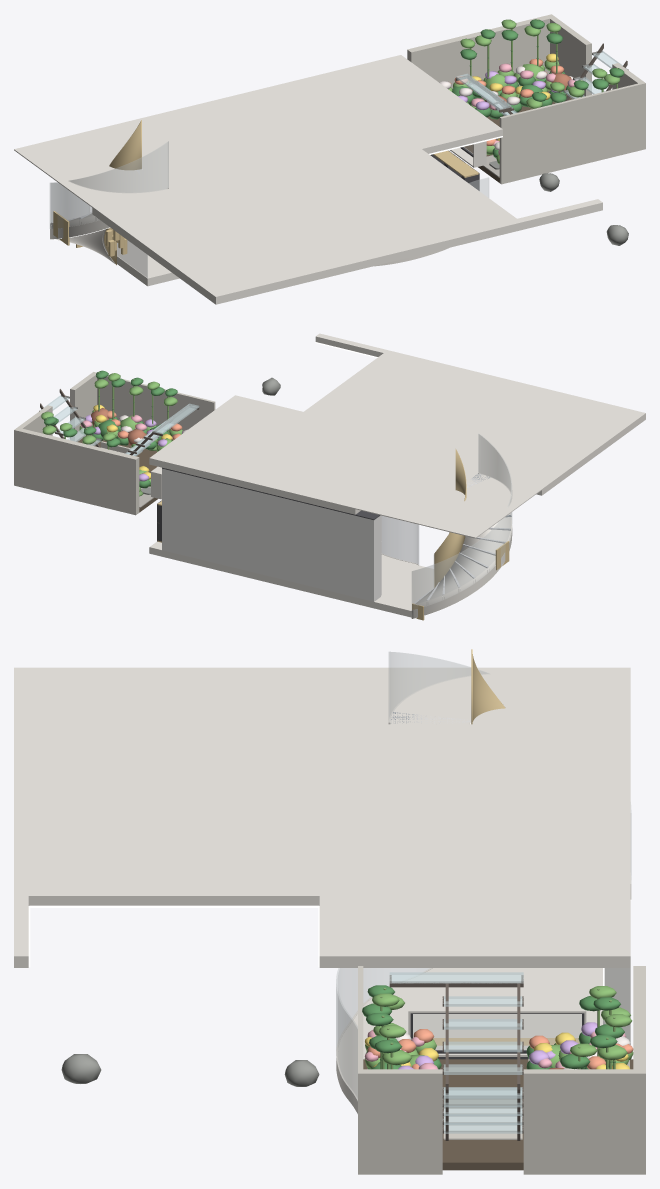
3 views of the same model, one above another, from view 1: azimuth 30°, elevation 25°; view 2: azimuth 150°, elevation 25°; view 3: azimuth 270°, elevation 25° (orthographic). The views are drawn at different scales.
Visible parts, largest first — view 1: B1_Ceiling_Batch_M0, B1_Garden_Batch_M11, B1_To_Batch_M1, B1_Mezz_Batch_M0, B1_To_Batch_M0, B1_Garden_Batch_M17, B1_To_Batch_M6, B1_Garden_Batch_M18, B1_Garden_Batch_M13, B2_FishPond_Batch_M14, B1_Garden_WestDoorPorchGlass, B1_Skylight_Batch_M0 (+7 smaller); view 2: B1_Ceiling_Batch_M0 (×2), B1_Grid_Batch_M2, B1_Garden_Batch_M11, B1_To_Batch_M1, B1_Mezz_Batch_M0 (×2), B1_To_Batch_M0, B1_To_Batch_M6 (×2), B1_Platform_Batch_M1, B1_Garden_Batch_M13, B1_To_Batch_M28, B1_Garden_Batch_M17, B1_Garden_Batch_M18 (+3 smaller); view 3: B1_Ceiling_Batch_M0 (×2), B1_Garden_Batch_M11, B1_Mezz_Batch_M0, B1_Garden_Batch_M13, B1_Garden_Batch_M9, B1_East_Batch_M8, B1_Platform_Batch_M1, B1_Skylight_Batch_M0, B1_To_Batch_M1, B1_East_Batch_M0, B2_FishPond_Batch_M14, B1_Garden_WestDoorPorchGlass (+7 smaller).
Part boxes in pixels (x1=…): B1_Ceiling_Batch_M0: x1=14, y1=55, x2=602, y2=304; B1_Garden_Batch_M11: x1=407, y1=14, x2=645, y2=184; B1_To_Batch_M1: x1=49, y1=141, x2=168, y2=228; B1_Mezz_Batch_M0: x1=117, y1=240, x2=179, y2=286; B1_To_Batch_M0: x1=50, y1=168, x2=168, y2=264; B1_Garden_Batch_M17: x1=452, y1=71, x2=570, y2=158; B1_To_Batch_M6: x1=104, y1=120, x2=141, y2=264; B1_Garden_Batch_M18: x1=448, y1=60, x2=559, y2=164; B1_Garden_Batch_M13: x1=469, y1=51, x2=627, y2=115; B2_FishPond_Batch_M14: x1=539, y1=173, x2=628, y2=245; B1_Garden_WestDoorPorchGlass: x1=456, y1=73, x2=511, y2=109; B1_Skylight_Batch_M0: x1=421, y1=129, x2=598, y2=218; B1_Ceiling_Batch_M0 (×2): x1=149, y1=333, x2=645, y2=538; B1_Grid_Batch_M2: x1=162, y1=468, x2=381, y2=601; B1_Garden_Batch_M11: x1=14, y1=372, x2=215, y2=515; B1_To_Batch_M1: x1=411, y1=433, x2=512, y2=609; B1_Mezz_Batch_M0 (×2): x1=149, y1=541, x2=433, y2=617; B1_To_Batch_M0: x1=411, y1=472, x2=512, y2=618; B1_To_Batch_M6 (×2): x1=412, y1=449, x2=509, y2=620; B1_Platform_Batch_M1: x1=381, y1=516, x2=419, y2=564; B1_Garden_Batch_M13: x1=40, y1=395, x2=173, y2=456; B1_To_Batch_M28: x1=413, y1=473, x2=511, y2=603; B1_Garden_Batch_M17: x1=91, y1=417, x2=169, y2=488; B1_Garden_Batch_M18: x1=79, y1=410, x2=182, y2=491; B1_Ceiling_Batch_M0 (×2): x1=14, y1=667, x2=630, y2=967; B1_Garden_Batch_M11: x1=358, y1=966, x2=645, y2=1174; B1_Mezz_Batch_M0: x1=336, y1=968, x2=602, y2=1113; B1_Garden_Batch_M13: x1=443, y1=996, x2=522, y2=1133; B1_Garden_Batch_M9: x1=363, y1=1059, x2=633, y2=1170; B1_East_Batch_M8: x1=413, y1=1014, x2=581, y2=1050; B1_Platform_Batch_M1: x1=336, y1=968, x2=430, y2=1101; B1_Skylight_Batch_M0: x1=27, y1=895, x2=321, y2=966; B1_To_Batch_M1: x1=388, y1=651, x2=631, y2=883; B1_East_Batch_M0: x1=408, y1=1002, x2=586, y2=1056; B2_FishPond_Batch_M14: x1=61, y1=1054, x2=319, y2=1086; B1_Garden_WestDoorPorchGlass: x1=389, y1=972, x2=523, y2=983.
Bounding box in the file's own units: 11.23 × 3.19 × 7.28.
Materials: 29 (1 with a texture image).
